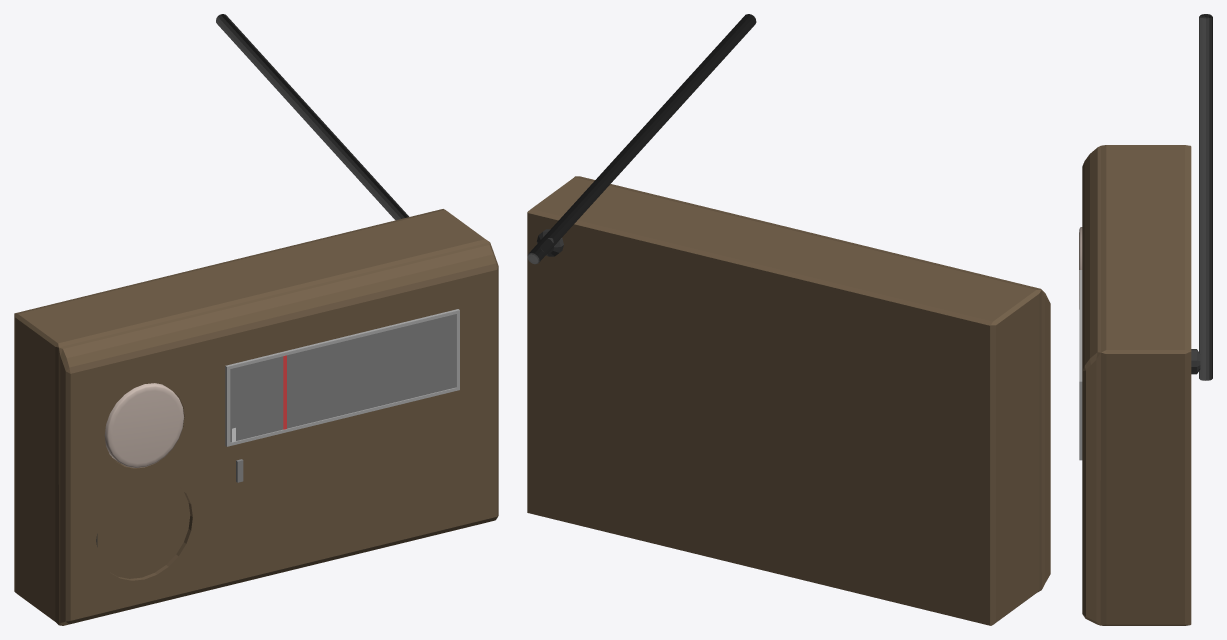
Rendered from Radio.fbx.
3 views of the same model, side by side, from view 1: azimuth 30°, elevation 25°; view 2: azimuth 150°, elevation 25°; view 3: azimuth 270°, elevation 25° (orthographic). The views are drawn at different scales.
Visible parts, largest first — view 1: Radio; view 2: Radio; view 3: Radio.
Boxes of the visible parts, left/top/right/bottom form: Radio: left=14, top=14, right=498, bottom=625; Radio: left=527, top=14, right=1050, bottom=625; Radio: left=1079, top=14, right=1212, bottom=625.
Bounding box in the file's own units: 171 × 196 × 46.51.
